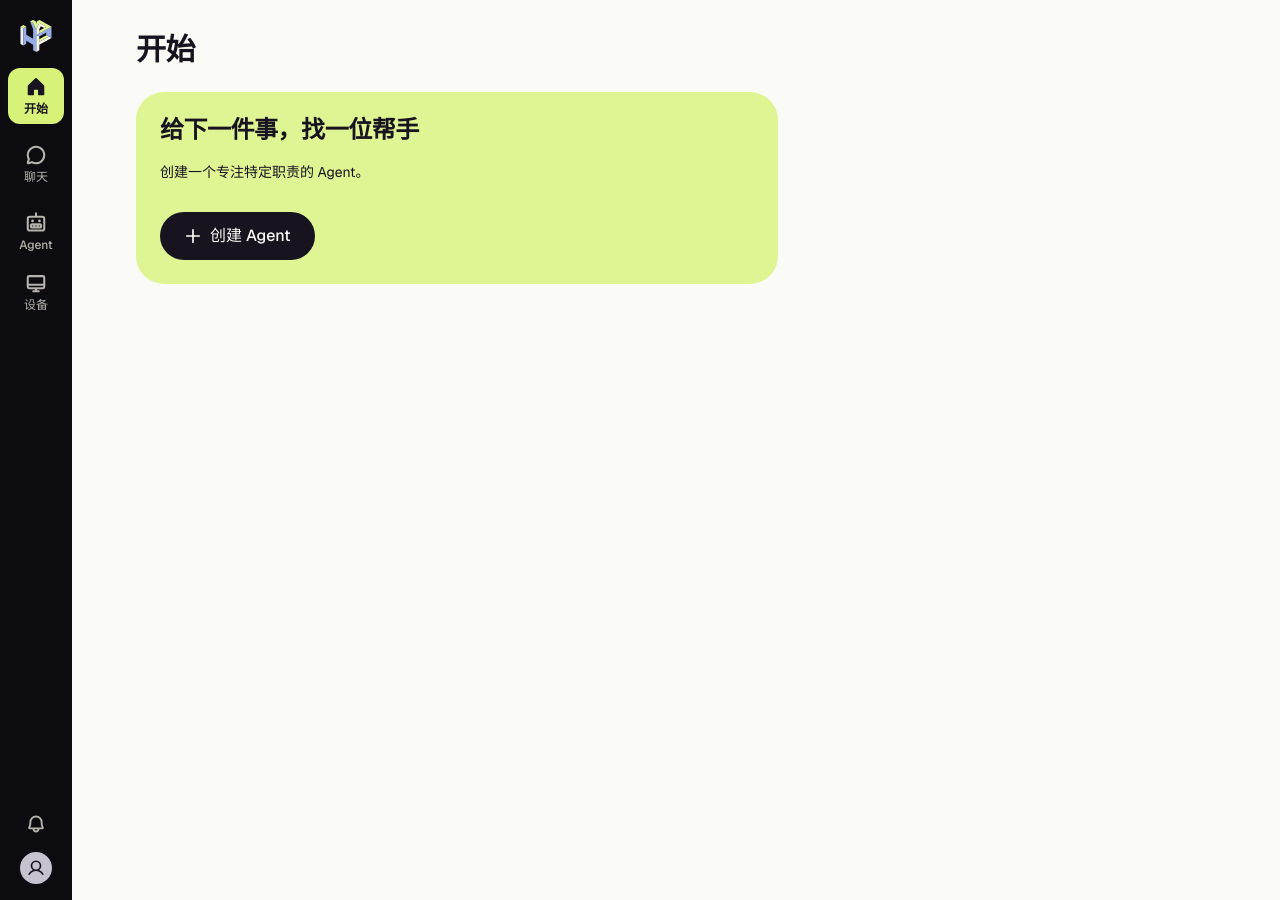
Test: J2 entries and J3 landing › TC-006 TC-007 TC-008 opens the J3-selected Agent detail and returns to the list
The image size is (1280, 900).
Click the button "Agent" at x=36, y=232, box [8,204,64,260]
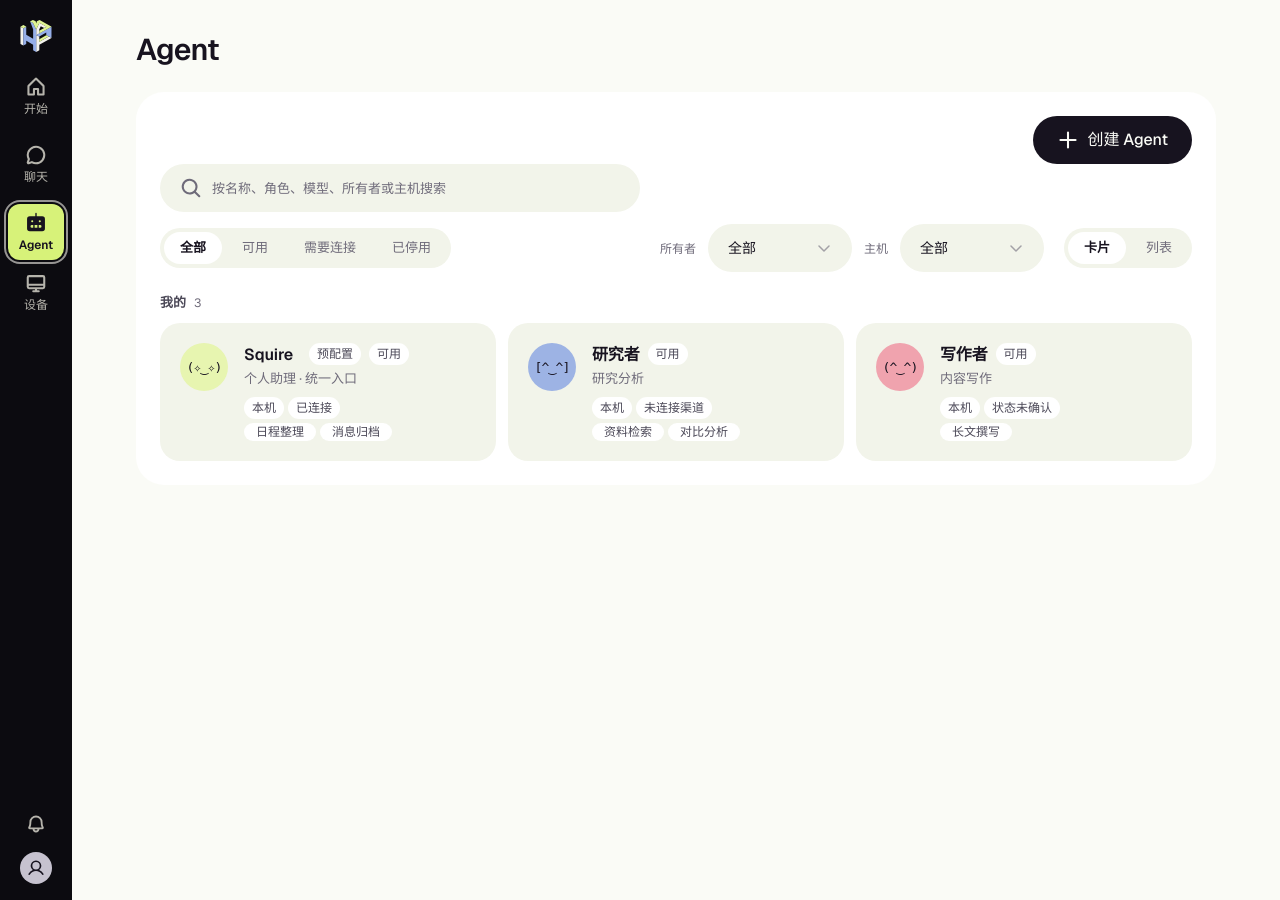
Click the button with test id "contact-agent-researcher" at x=552, y=367, box [508,323,844,461]
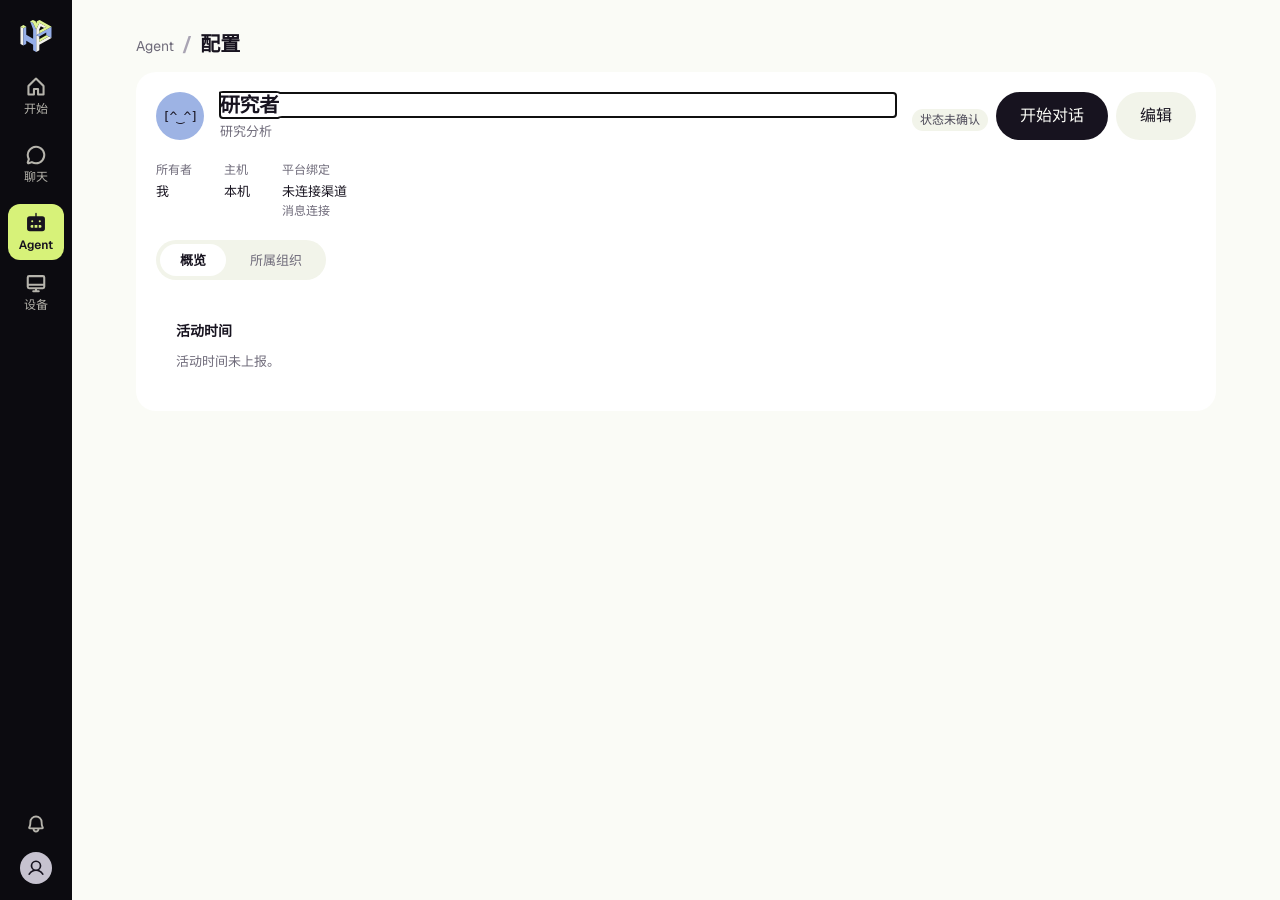
Expected: the element that starts with "研究者" is shown, [136,72,1216,411]
Click the link "Agent" at x=155, y=46, box [136,37,174,55]
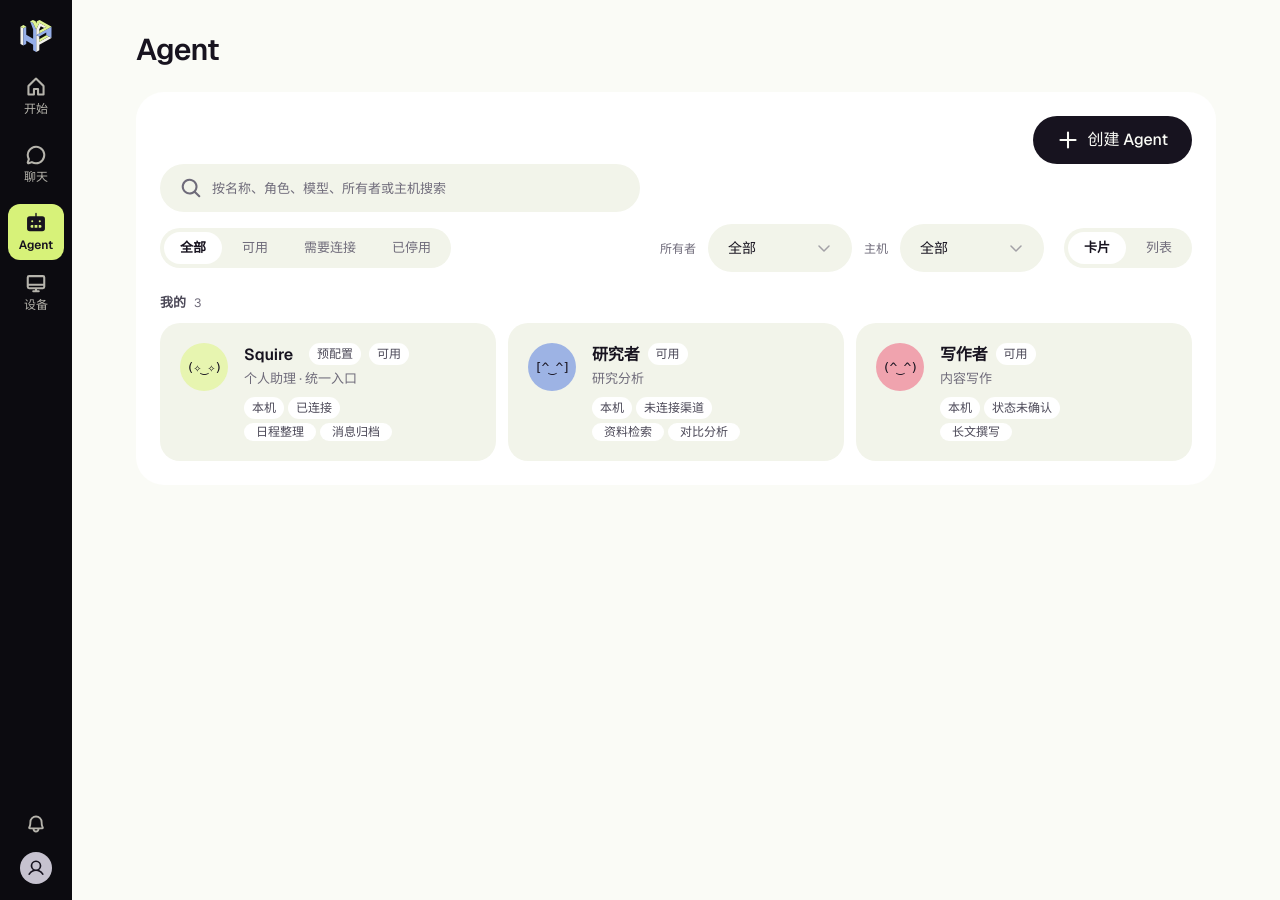
Expected: the element with test id "contact-list" is shown, [160,292,1192,461]
